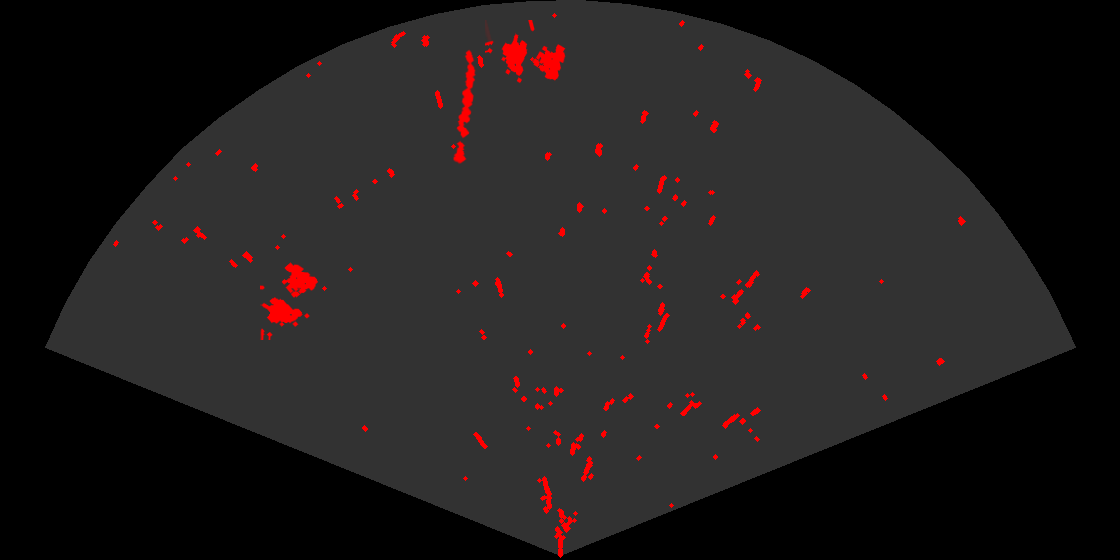cage: (485, 20, 567, 85), (260, 261, 319, 340)
chain: (452, 48, 477, 166)
